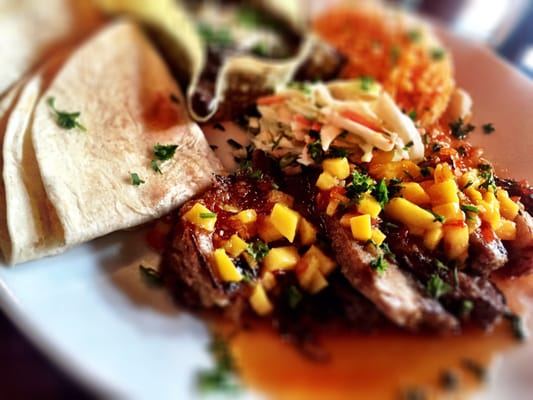soup: (0, 7, 223, 267)
